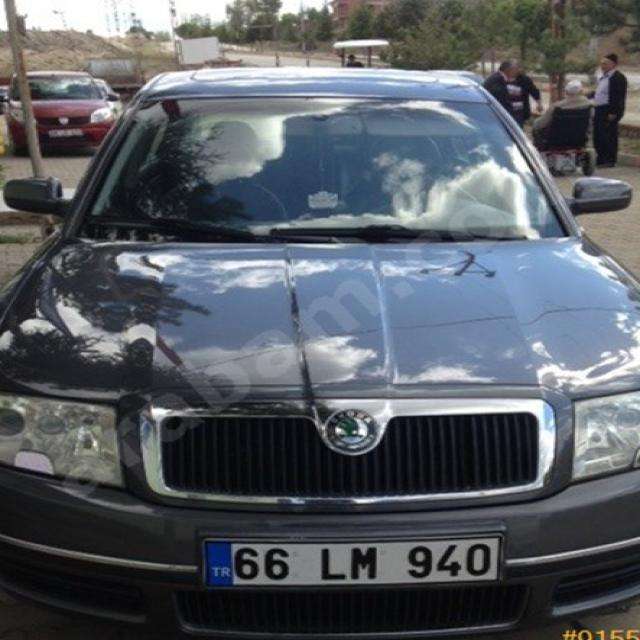license_plate: (203, 537, 501, 587)
